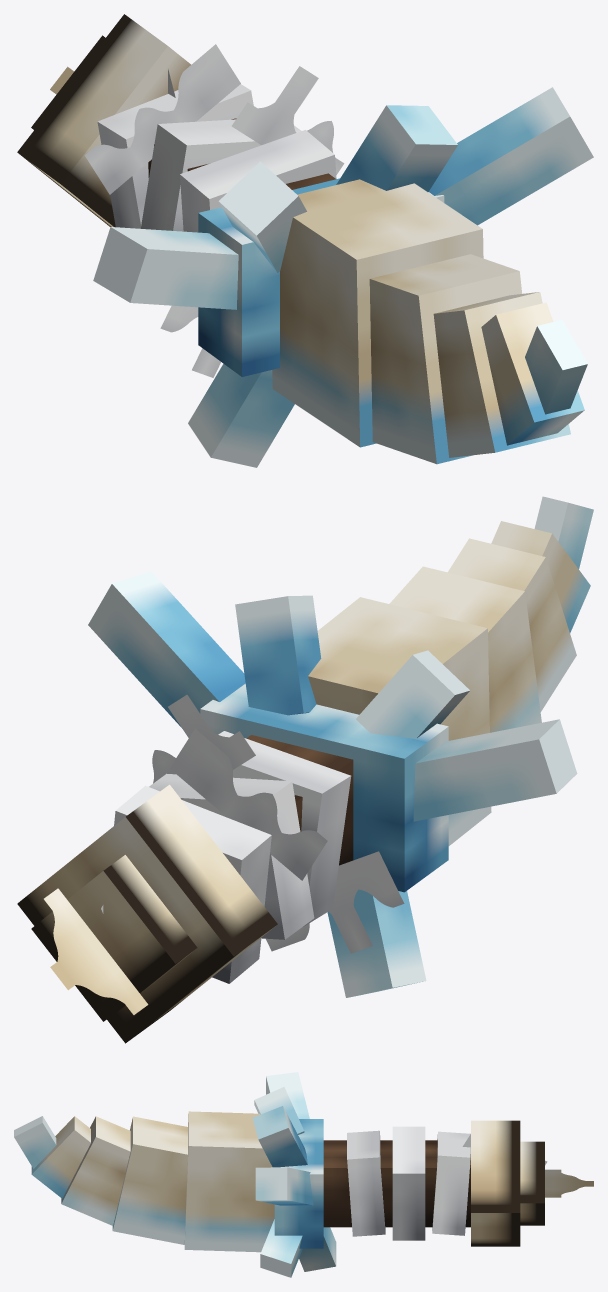
File: fang_dagger.obj
3 renders of one model, top to bottom at view 1: azimuth 30°, elevation 25°; view 2: azimuth 150°, elevation 25°; view 3: azimuth 270°, elevation 25°, orthographic. The views are drawn at different scales.
Parts seen in each view (by area): view 1: blade, blade1, pommel, guard_crystal0, guard_crystal1, blade2, guard, guard_crystal3, blade3, guard_crystal2, wrap1, fur_tuft0 (+6 smaller); view 2: pommel, guard, blade, guard_crystal0, guard_crystal1, blade1, pommel_cap, guard_crystal2, blade2, wrap2, fur_tuft0, guard_crystal3 (+9 smaller); view 3: blade, blade1, pommel, blade2, grip, wrap1, wrap2, guard, wrap0, blade3, guard_crystal2, pommel_cap (+7 smaller).
Part boxes in pixels (<box>): blade: <box>272,179,483,447</box>; blade1: <box>369,254,522,464</box>; pommel: <box>17,14,190,227</box>; guard_crystal0: <box>429,87,593,225</box>; guard_crystal1: <box>93,227,238,309</box>; blade2: <box>433,292,570,457</box>; guard: <box>198,178,444,376</box>; guard_crystal3: <box>188,363,294,467</box>; blade3: <box>481,302,584,445</box>; guard_crystal2: <box>336,105,457,191</box>; wrap1: <box>140,119,301,231</box>; fur_tuft0: <box>85,44,240,194</box>; pommel: <box>17,784,277,1043</box>; guard: <box>200,683,448,892</box>; blade: <box>308,597,491,845</box>; guard_crystal0: <box>88,571,245,727</box>; guard_crystal1: <box>413,719,577,821</box>; blade1: <box>389,566,541,732</box>; pommel_cap: <box>31,855,197,1021</box>; guard_crystal2: <box>235,595,321,715</box>; blade2: <box>448,538,576,711</box>; wrap2: <box>218,731,351,926</box>; fur_tuft0: <box>169,728,327,880</box>; guard_crystal3: <box>327,889,426,997</box>; blade: <box>184,1111,274,1252</box>; blade1: <box>112,1116,187,1244</box>; pommel: <box>471,1120,520,1246</box>; blade2: <box>61,1116,130,1225</box>; grip: <box>323,1140,470,1227</box>; wrap1: <box>392,1126,425,1240</box>; wrap2: <box>347,1130,385,1236</box>; guard: <box>274,1119,323,1248</box>; wrap0: <box>432,1131,470,1235</box>; blade3: <box>31,1116,90,1198</box>; guard_crystal2: <box>252,1106,307,1167</box>; pommel_cap: <box>520,1141,544,1225</box>.
Size of the model in its own units: 9.37 by 6.62 by 17.71.
1 material, 1 textured.
